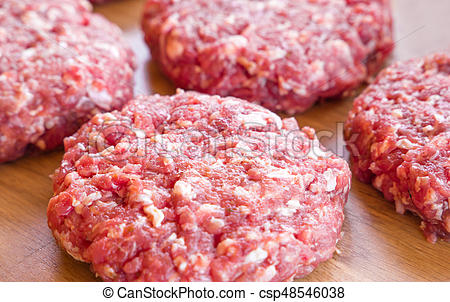ground_beef: (68, 99, 354, 268), (168, 1, 385, 112), (338, 47, 450, 211)
